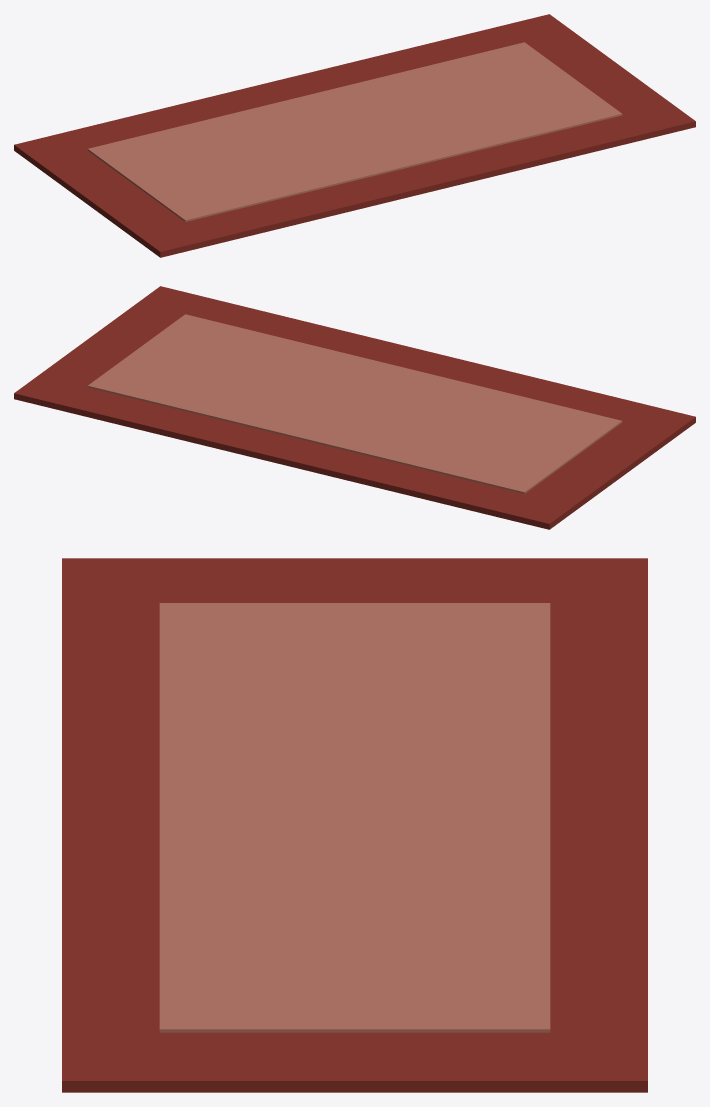
The model's file is rug.glb.
3 views of the same model, one above another, from view 1: azimuth 30°, elevation 25°; view 2: azimuth 150°, elevation 25°; view 3: azimuth 270°, elevation 25° (orthographic). The views are drawn at different scales.
Parts seen in each view (by area): view 1: body; view 2: body; view 3: body.
Boxes of the visible parts, x1=… form: body: x1=14, y1=14, x2=695, y2=257; body: x1=14, y1=286, x2=695, y2=529; body: x1=62, y1=558, x2=647, y2=1092.
Size of the model in its own units: 1.9 by 0.026 by 0.9.
